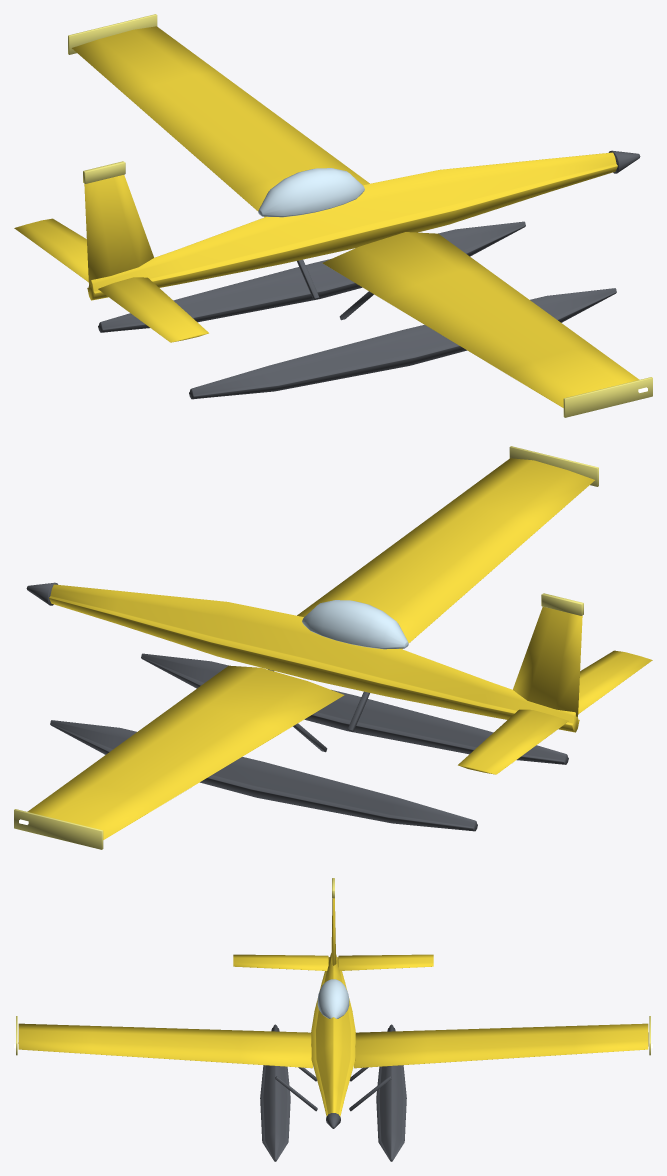
File: SM_AT802F_FireBoss.fbx
3 renders of one model, top to bottom at view 1: azimuth 30°, elevation 25°; view 2: azimuth 150°, elevation 25°; view 3: azimuth 270°, elevation 25°, orthographic. The views are drawn at different scales.
Visible parts, largest first — view 1: SM_AT802F_FireBoss; view 2: SM_AT802F_FireBoss; view 3: SM_AT802F_FireBoss.
Boxes of the visible parts, <box> form: SM_AT802F_FireBoss: <box>14,14,652,417</box>; SM_AT802F_FireBoss: <box>14,446,652,849</box>; SM_AT802F_FireBoss: <box>14,878,652,1161</box>.
Size of the model in its own units: 11.64 by 18.16 by 4.56.
